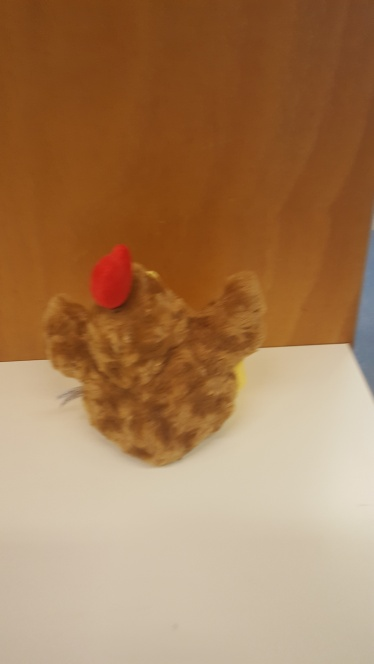chicken_back: (42, 242, 268, 468)
